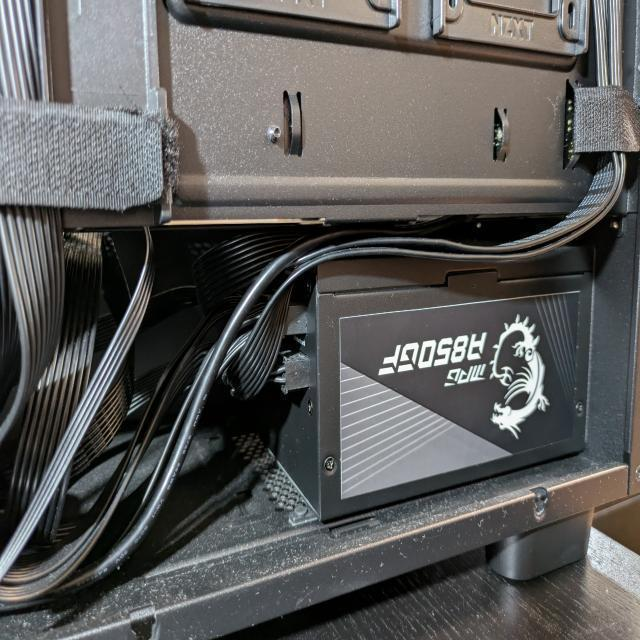PSU: (231, 220, 595, 524)
